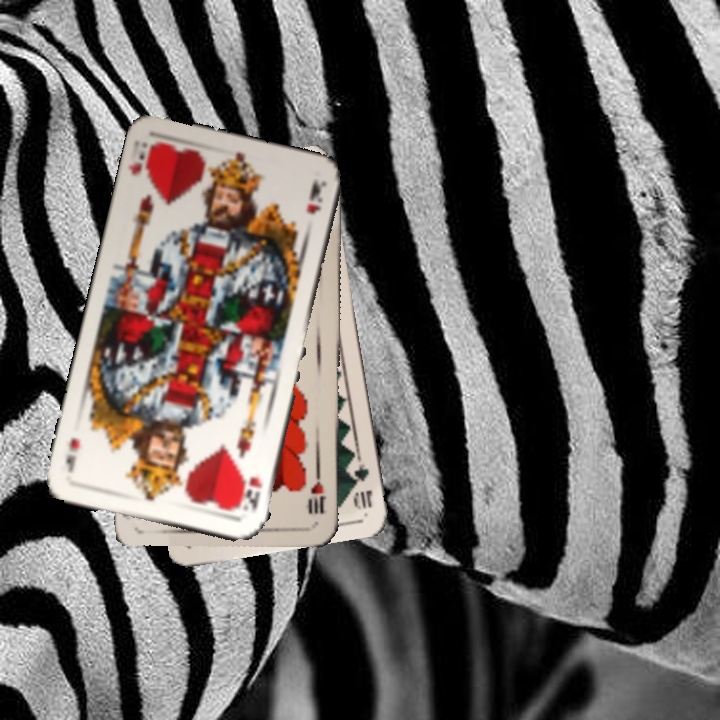G10: (348, 459, 375, 513)
H10: (305, 464, 329, 517)
HK: (235, 472, 264, 513), (125, 137, 150, 178)
